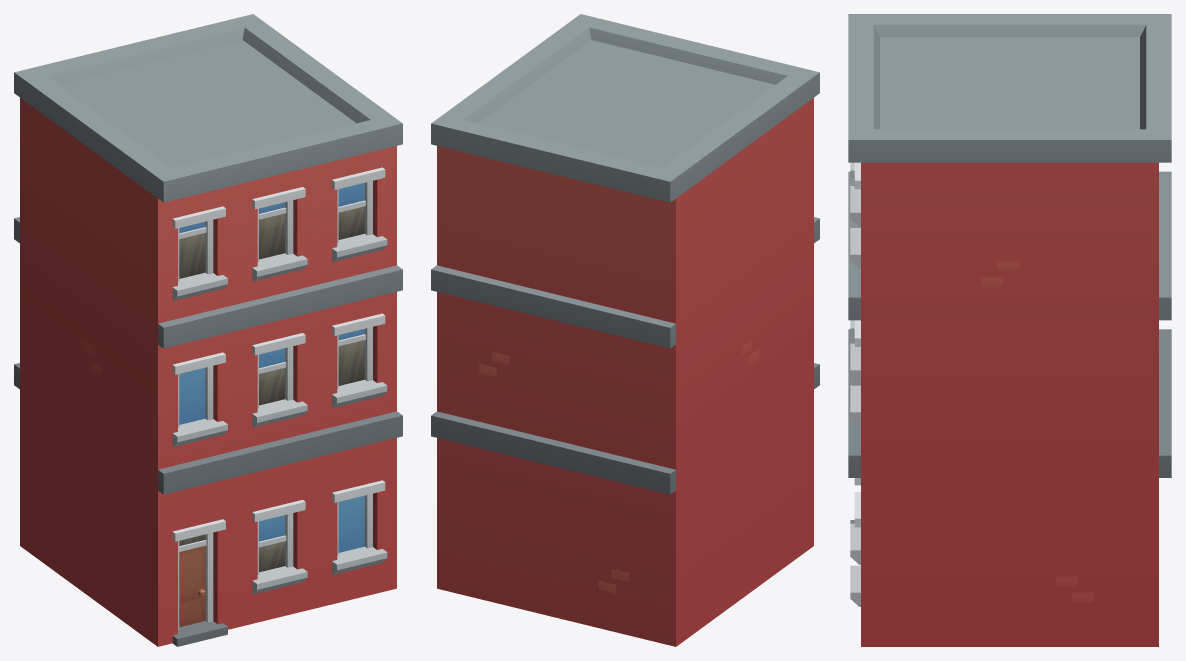
The model's file is building_C_withoutBase.glb.
3 renders of one model, left to right at view 1: azimuth 30°, elevation 25°; view 2: azimuth 150°, elevation 25°; view 3: azimuth 270°, elevation 25°, orthographic. The views are drawn at different scales.
Parts seen in each view (by area): view 1: building_C_withoutBase; view 2: building_C_withoutBase; view 3: building_C_withoutBase.
Part boxes in pixels (x1,y1,x2,y2): building_C_withoutBase: (14,14,402,646); building_C_withoutBase: (431,14,819,646); building_C_withoutBase: (848,14,1171,646).
Size of the model in its own units: 1.21 by 2.25 by 1.3.
1 material, 1 textured.
